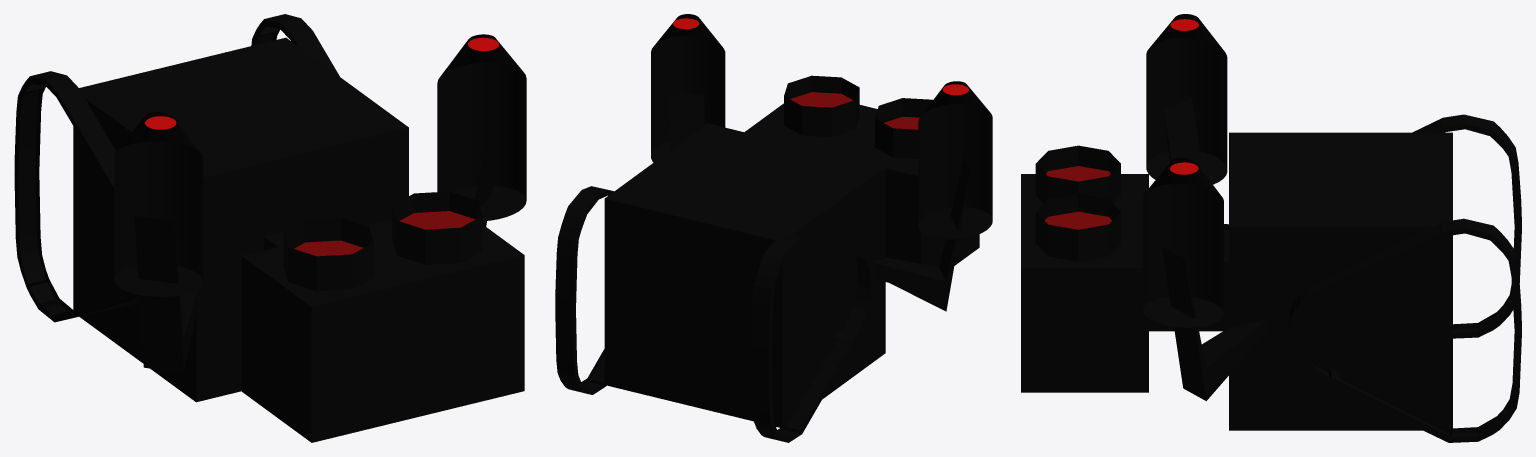
File: BasicoINMOVIL.obj
3 renders of one model, left to right at view 1: azimuth 30°, elevation 25°; view 2: azimuth 150°, elevation 25°; view 3: azimuth 270°, elevation 25°, orthographic. The views are drawn at different scales.
Parts seen in each view (by area): view 1: Cube.070; view 2: Cube.070; view 3: Cube.070.
Boxes of the visible parts, <box> form: Cube.070: <box>14,14,526,442</box>; Cube.070: <box>555,14,992,442</box>; Cube.070: <box>1021,14,1521,442</box>.
Size of the model in its own units: 0.5496 by 0.423 by 0.6563.
